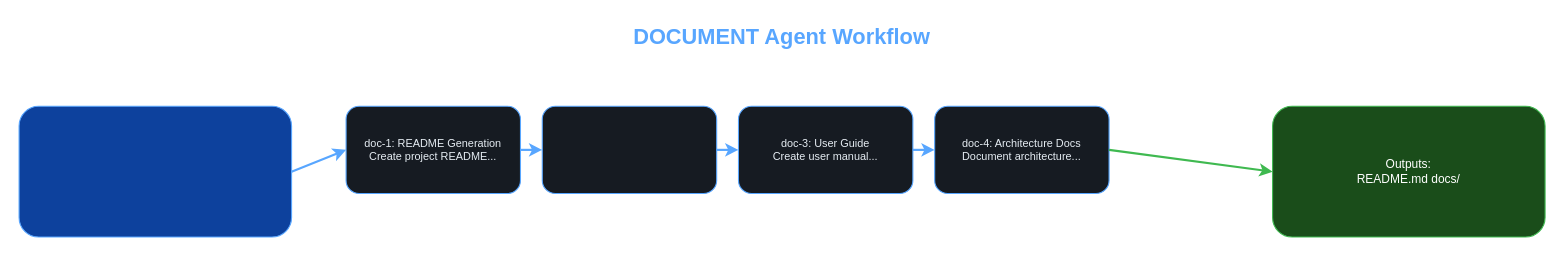
Some shapes in this 1564 by 256 pixel diagram are drawn without their labels. Each missing label, with the box of its shape:
doc-2: API Documentation Generate API reference...: (541, 105, 717, 193)
Inputs: Product plan Source code Architecture: (18, 105, 292, 237)
